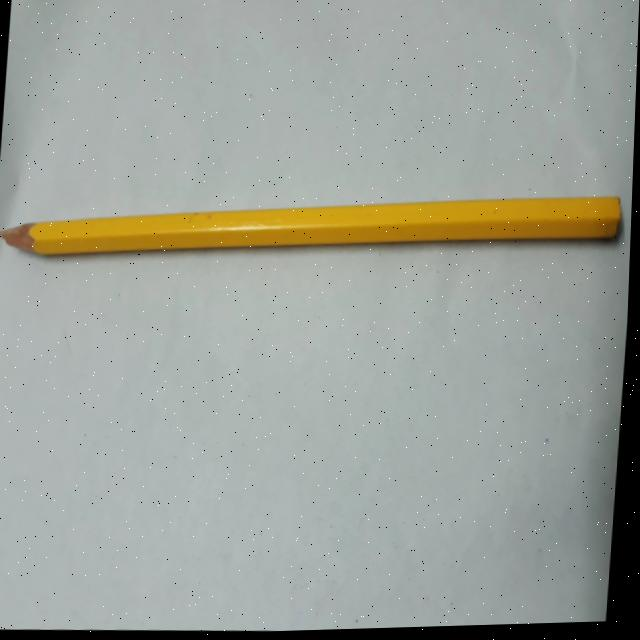pencil: (0, 154, 631, 284)
